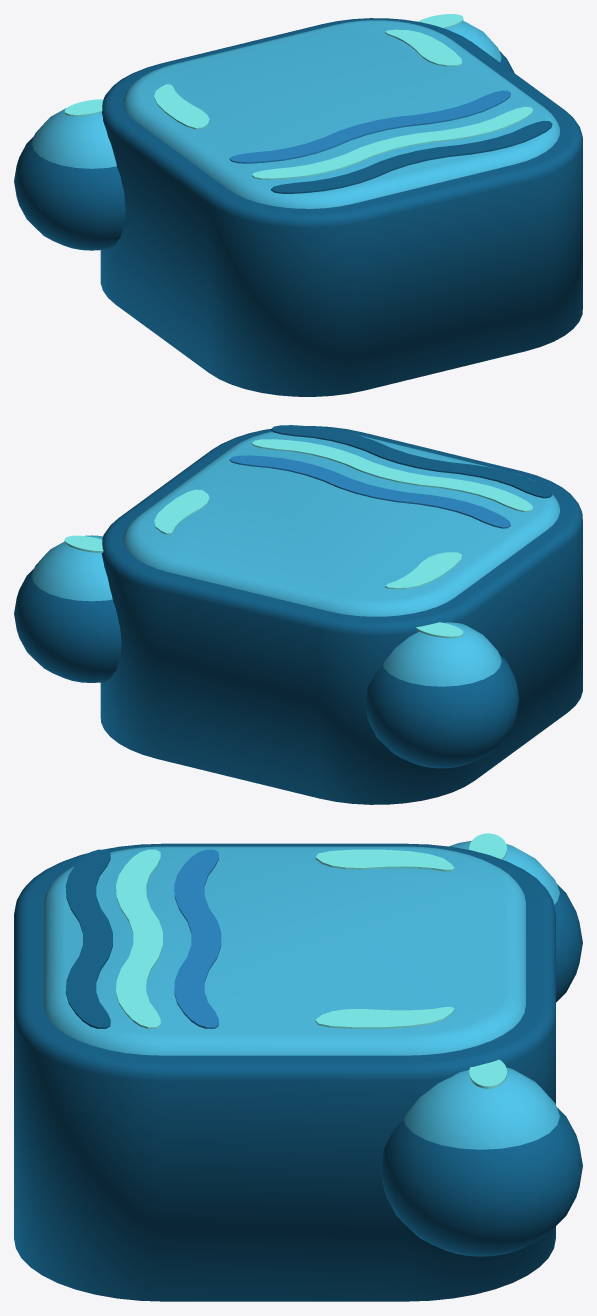
The model's file is body_estampa_ondas.fbx.
The picture shows the model from 3 angles, top to bottom: view 1: azimuth 30°, elevation 25°; view 2: azimuth 150°, elevation 25°; view 3: azimuth 270°, elevation 25°; orthographic projection. The views are drawn at different scales.
Visible parts, largest first — view 1: body_estampa_ondas_corpo, body_estampa_ondas_mao_esq, body_estampa_ondas_mao; view 2: body_estampa_ondas_corpo, body_estampa_ondas_mao_esq, body_estampa_ondas_mao; view 3: body_estampa_ondas_corpo, body_estampa_ondas_mao, body_estampa_ondas_mao_esq.
Boxes of the visible parts, x1,y1,x2,y2 form: body_estampa_ondas_corpo: (100,18,582,396); body_estampa_ondas_mao_esq: (14,99,125,250); body_estampa_ondas_mao: (418,14,514,72); body_estampa_ondas_corpo: (100,425,582,804); body_estampa_ondas_mao_esq: (365,622,519,768); body_estampa_ondas_mao: (14,535,121,682); body_estampa_ondas_corpo: (14,843,555,1301); body_estampa_ondas_mao: (380,1059,582,1256); body_estampa_ondas_mao_esq: (449,833,582,1002).
Size of the model in its own units: 5.4 by 2.03 by 4.2.
Materials: 1 (1 with a texture image).
